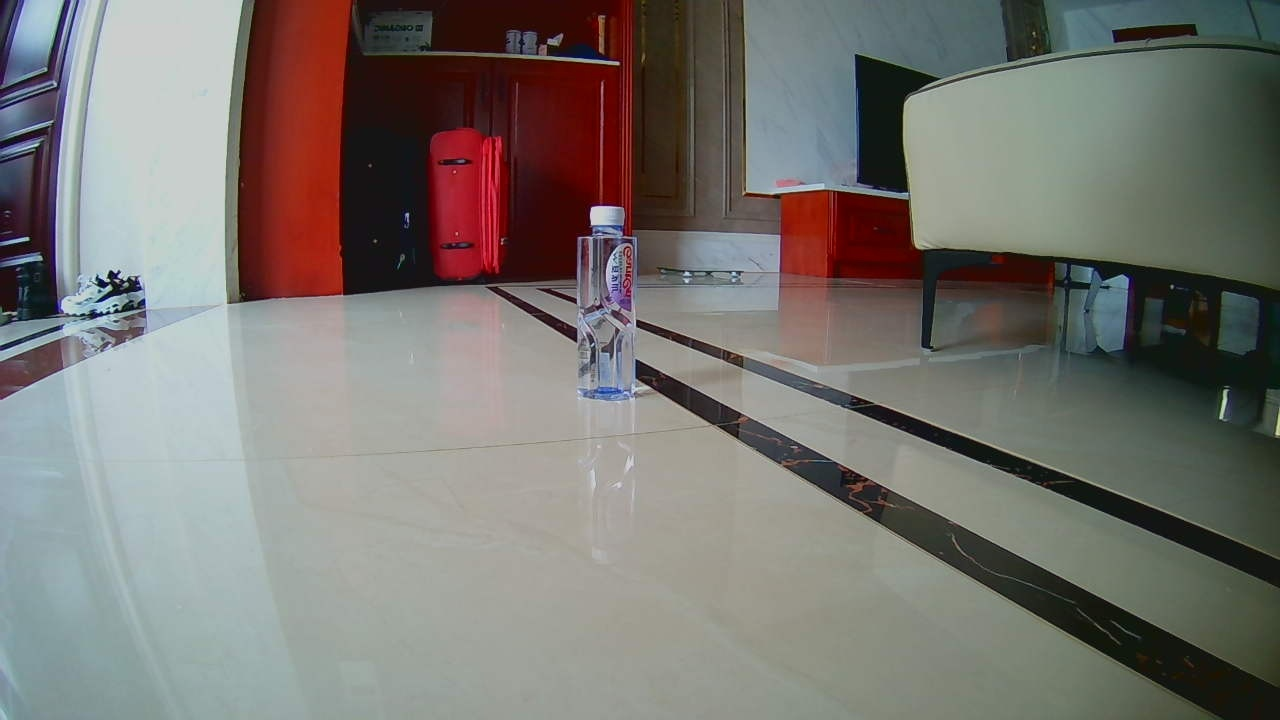water: (575, 207, 631, 398)
